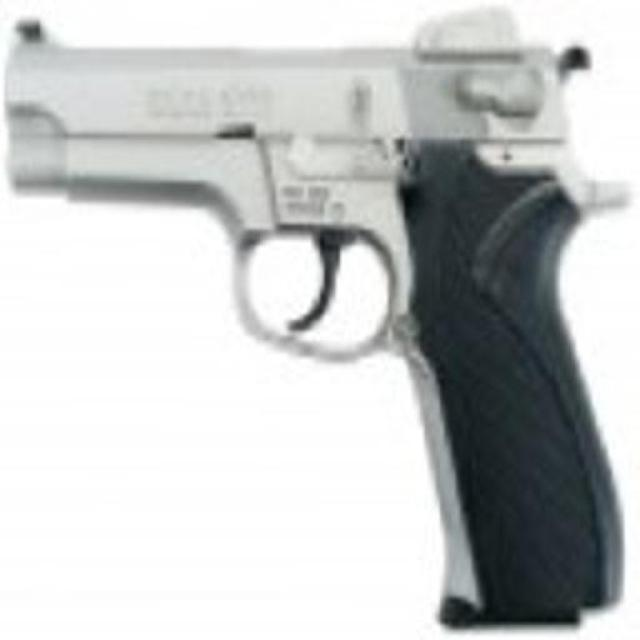pistol: (7, 15, 620, 629)
